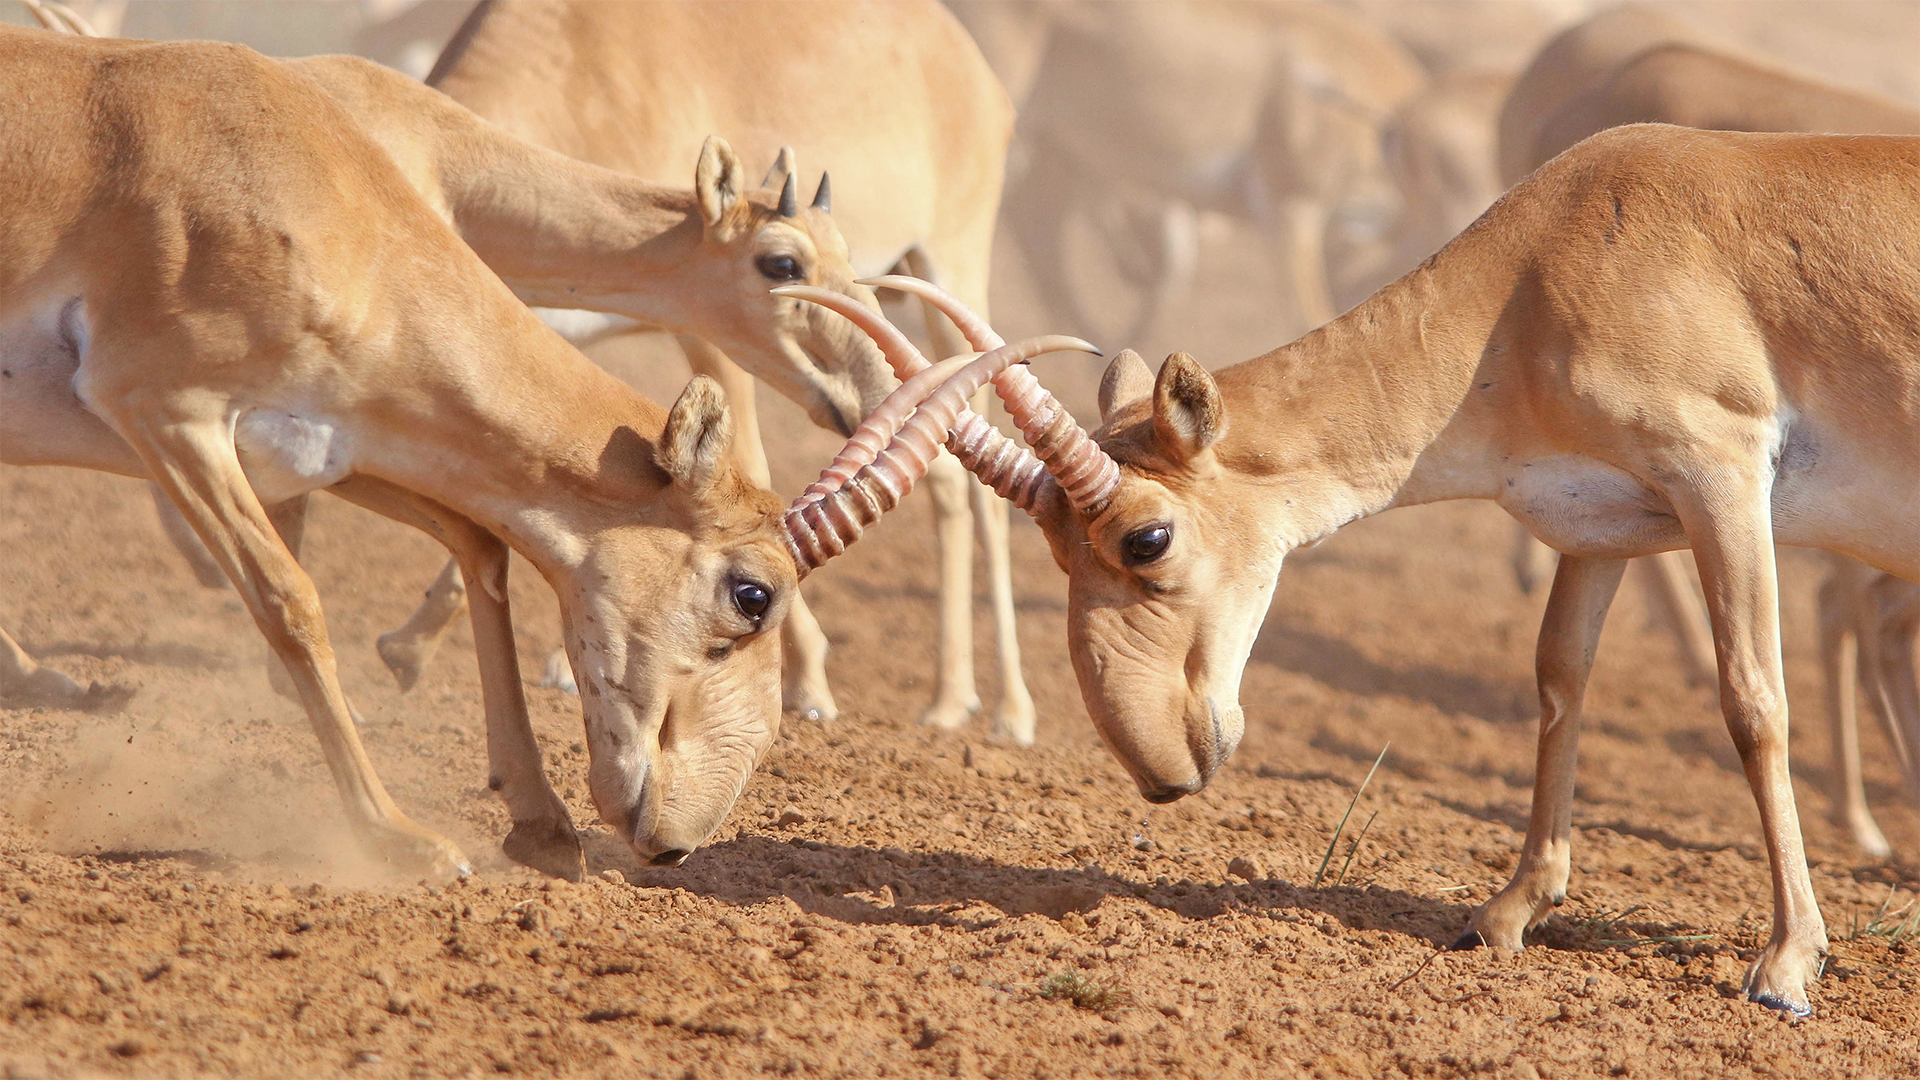saiga: (769, 116, 1920, 1018), (3, 26, 1101, 910)
